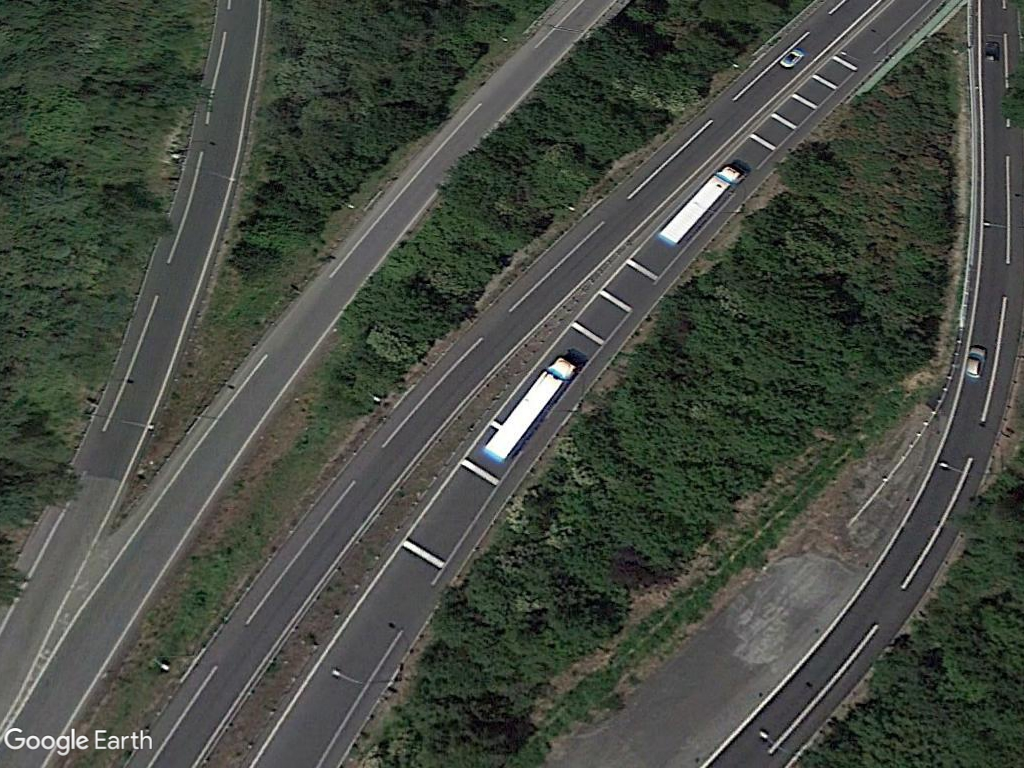car: (963, 338, 988, 385)
longvehicle: (481, 355, 580, 466), (656, 156, 750, 250)
